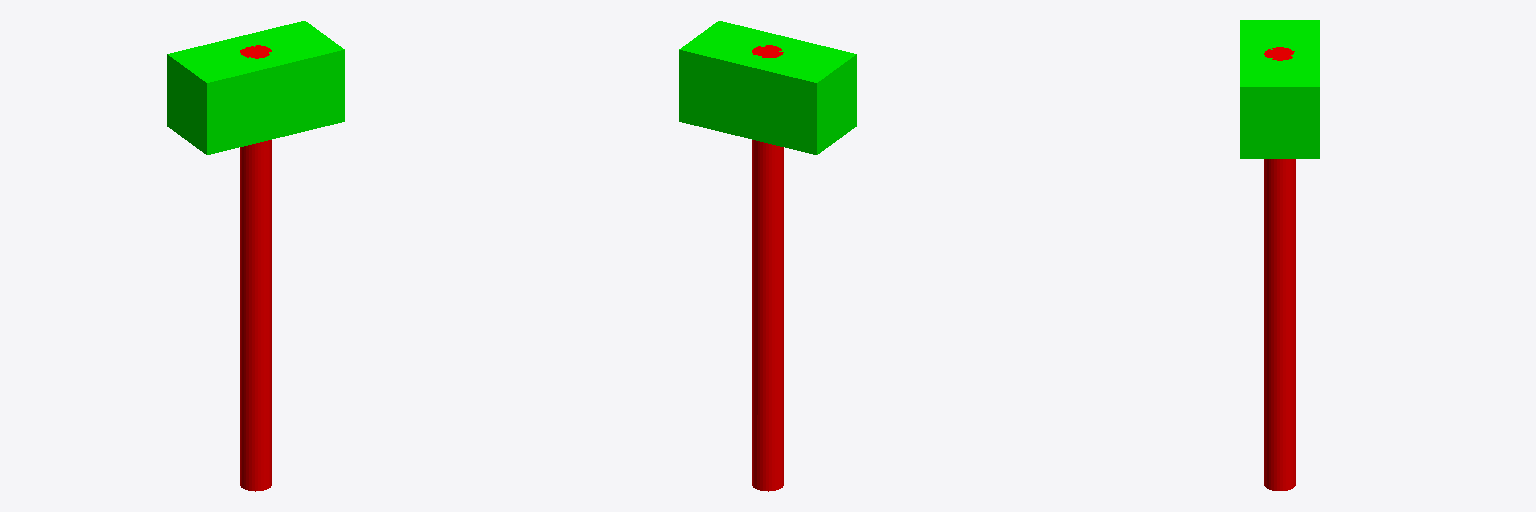
robot.urdf — GEN3_URDF_V12:
<robot name="GEN3_URDF_V12">
  <link name="base_link">
    <inertial>
      <origin xyz="-0.000648 -0.000166 0.084487" rpy="0 0 0" />
      <mass value="1.697" />
      <inertia ixx="0.004622" ixy="9E-06" ixz="6E-05" iyy="0.004495" iyz="9E-06" izz="0.002079" />
    </inertial>
    <visual>
      <origin xyz="0 0 0" rpy="0 0 0" />
      <geometry>
        <mesh filename="package://project/script/environment_description/gen3/7dof/meshes/base_link.obj" />
      </geometry>
      <material name="">
        <color rgba="0.75294 0.75294 0.75294 1" />
      </material>
    </visual>
    <collision>
      <origin xyz="0 0 0" rpy="0 0 0" />
      <geometry>
        <mesh filename="package://project/script/environment_description/gen3/7dof/meshes/base_link.obj" />
      </geometry>
    </collision>
  </link>
  <link name="Shoulder_Link">
    <inertial>
      <origin xyz="-2.3E-05 -0.010364 -0.07336" rpy="0 0 0" />
      <mass value="1.3773" />
      <inertia ixx="0.00457" ixy="1E-06" ixz="2E-06" iyy="0.004831" iyz="0.000448" izz="0.001409" />
    </inertial>
    <visual>
      <origin xyz="0 0 0" rpy="0 0 0" />
      <geometry>
        <mesh filename="package://project/script/environment_description/gen3/7dof/meshes/shoulder_link.obj" />
      </geometry>
      <material name="">
        <color rgba="0.75294 0.75294 0.75294 1" />
      </material>
    </visual>
    <collision>
      <origin xyz="0 0 0" rpy="0 0 0" />
      <geometry>
        <mesh filename="package://project/script/environment_description/gen3/7dof/meshes/shoulder_link.obj" />
      </geometry>
    </collision>
  </link>
  <joint name="Actuator1" type="continuous">
    <origin xyz="0 0 0.15643" rpy="3.1416 2.7629E-18 -4.9305E-36" />
    <parent link="base_link" />
    <child link="Shoulder_Link" />
    <axis xyz="0 0 1" />
    <limit lower="-1.57" upper="1.57" effort="39" velocity="8.727" />
  </joint>
  <link name="HalfArm1_Link">
    <inertial>
      <origin xyz="-4.4E-05 -0.09958 -0.013278" rpy="0 0 0" />
      <mass value="1.1636" />
      <inertia ixx="0.011088" ixy="5E-06" ixz="0" iyy="0.001072" iyz="-0.000691" izz="0.011255" />
    </inertial>
    <visual>
      <origin xyz="0 0 0" rpy="0 0 0" />
      <geometry>
        <mesh filename="package://project/script/environment_description/gen3/7dof/meshes/half_arm_1_link.obj" />
      </geometry>
      <material name="">
        <color rgba="0.75294 0.75294 0.75294 1" />
      </material>
    </visual>
    <collision>
      <origin xyz="0 0 0" rpy="0 0 0" />
      <geometry>
        <mesh filename="package://project/script/environment_description/gen3/7dof/meshes/half_arm_1_link.obj" />
      </geometry>
    </collision>
  </link>
  <joint name="Actuator2" type="revolute">
    <origin xyz="0 0.005375 -0.12838" rpy="1.5708 2.1343E-17 -1.1102E-16" />
    <parent link="Shoulder_Link" />
    <child link="HalfArm1_Link" />
    <axis xyz="0 0 1" />
    <limit lower="-2.41" upper="2.41" effort="39" velocity="8.727" />
  </joint>
  <link name="HalfArm2_Link">
    <inertial>
      <origin xyz="-4.4E-05 -0.006641 -0.117892" rpy="0 0 0" />
      <mass value="1.1636" />
      <inertia ixx="0.010932" ixy="0" ixz="-7E-06" iyy="0.011127" iyz="0.000606" izz="0.001043" />
    </inertial>
    <visual>
      <origin xyz="0 0 0" rpy="0 0 0" />
      <geometry>
        <mesh filename="package://project/script/environment_description/gen3/7dof/meshes/half_arm_2_link.obj" />
      </geometry>
      <material name="">
        <color rgba="0.75294 0.75294 0.75294 1" />
      </material>
    </visual>
    <collision>
      <origin xyz="0 0 0" rpy="0 0 0" />
      <geometry>
        <mesh filename="package://project/script/environment_description/gen3/7dof/meshes/half_arm_2_link.obj" />
      </geometry>
    </collision>
  </link>
  <joint name="Actuator3" type="continuous">
    <origin xyz="0 -0.21038 -0.006375" rpy="-1.5708 1.2326E-32 -2.9122E-16" />
    <parent link="HalfArm1_Link" />
    <child link="HalfArm2_Link" />
    <axis xyz="0 0 1" />
    <limit lower="-1.57" upper="1.57" effort="39" velocity="8.727" />
  </joint>
  <link name="ForeArm_Link">
    <inertial>
      <origin xyz="-1.8E-05 -0.075478 -0.015006" rpy="0 0 0" />
      <mass value="0.9302" />
      <inertia ixx="0.008147" ixy="-1E-06" ixz="0" iyy="0.000631" iyz="-0.0005" izz="0.008316" />
    </inertial>
    <visual>
      <origin xyz="0 0 0" rpy="0 0 0" />
      <geometry>
        <mesh filename="package://project/script/environment_description/gen3/7dof/meshes/forearm_link.obj" />
      </geometry>
      <material name="">
        <color rgba="0.75294 0.75294 0.75294 1" />
      </material>
    </visual>
    <collision>
      <origin xyz="0 0 0" rpy="0 0 0" />
      <geometry>
        <mesh filename="package://project/script/environment_description/gen3/7dof/meshes/forearm_link.obj" />
      </geometry>
    </collision>
  </link>
  <joint name="Actuator4" type="revolute">
    <origin xyz="0 0.006375 -0.21038" rpy="1.5708 -6.6954E-17 -1.6653E-16" />
    <parent link="HalfArm2_Link" />
    <child link="ForeArm_Link" />
    <axis xyz="0 0 1" />
    <limit lower="-2.66" upper="2.66" effort="39" velocity="8.727" />
  </joint>
  <link name="SphericalWrist1_Link">
    <inertial>
      <origin xyz="1E-06 -0.009432 -0.063883" rpy="0 0 0" />
      <mass value="0.6781" />
      <inertia ixx="0.001596" ixy="0" ixz="0" iyy="0.001607" iyz="0.000256" izz="0.000399" />
    </inertial>
    <visual>
      <origin xyz="0 0 0" rpy="0 0 0" />
      <geometry>
        <mesh filename="package://project/script/environment_description/gen3/7dof/meshes/spherical_wrist_1_link.obj" />
      </geometry>
      <material name="">
        <color rgba="0.75294 0.75294 0.75294 1" />
      </material>
    </visual>
    <collision>
      <origin xyz="0 0 0" rpy="0 0 0" />
      <geometry>
        <mesh filename="package://project/script/environment_description/gen3/7dof/meshes/spherical_wrist_1_link.obj" />
      </geometry>
    </collision>
  </link>
  <joint name="Actuator5" type="continuous">
    <origin xyz="0 -0.20843 -0.006375" rpy="-1.5708 2.2204E-16 -6.373E-17" />
    <parent link="ForeArm_Link" />
    <child link="SphericalWrist1_Link" />
    <axis xyz="0 0 1" />
    <limit lower="-1.57" upper="1.57" effort="9" velocity="8.727" />
  </joint>
  <link name="SphericalWrist2_Link">
    <inertial>
      <origin xyz="1E-06 -0.045483 -0.00965" rpy="0 0 0" />
      <mass value="0.6781" />
      <inertia ixx="0.001641" ixy="0" ixz="0" iyy="0.00041" iyz="-0.000278" izz="0.001641" />
    </inertial>
    <visual>
      <origin xyz="0 0 0" rpy="0 0 0" />
      <geometry>
        <mesh filename="package://project/script/environment_description/gen3/7dof/meshes/spherical_wrist_2_link.obj" />
      </geometry>
      <material name="">
        <color rgba="0.75294 0.75294 0.75294 1" />
      </material>
    </visual>
    <collision>
      <origin xyz="0 0 0" rpy="0 0 0" />
      <geometry>
        <mesh filename="package://project/script/environment_description/gen3/7dof/meshes/spherical_wrist_2_link.obj" />
      </geometry>
    </collision>
  </link>
  <joint name="Actuator6" type="revolute">
    <origin xyz="0 0.00017505 -0.10593" rpy="1.5708 9.2076E-28 -8.2157E-15" />
    <parent link="SphericalWrist1_Link" />
    <child link="SphericalWrist2_Link" />
    <axis xyz="0 0 1" />
    <limit lower="-2.23" upper="2.23" effort="9" velocity="8.727" />
  </joint>
  <link name="Bracelet_Link">
    <inertial>
      <origin xyz="-0.000281 -0.011402 -0.029798" rpy="0 0 0" />
      <mass value="0.5006" />
      <inertia ixx="0.000587" ixy="3E-06" ixz="3E-06" iyy="0.000369" iyz="0.000118" izz="0.000609" />
    </inertial>
    <visual>
      <origin xyz="0 0 0" rpy="0 0 0" />
      <geometry>
        <mesh filename="package://project/script/environment_description/gen3/7dof/meshes/bracelet_with_vision_link.obj" />
      </geometry>
      <material name="">
        <color rgba="0.75294 0.75294 0.75294 1" />
      </material>
    </visual>
    <collision>
      <origin xyz="0 0 0" rpy="0 0 0" />
      <geometry>
        <mesh filename="package://project/script/environment_description/gen3/7dof/meshes/bracelet_with_vision_link.obj" />
      </geometry>
    </collision>
  </link>
  <joint name="Actuator7" type="continuous">
    <origin xyz="0 -0.10593 -0.00017505" rpy="-1.5708 -5.5511E-17 9.6396E-17" />
    <parent link="SphericalWrist2_Link" />
    <child link="Bracelet_Link" />
    <axis xyz="0 0 1" />
    <limit lower="-1.57" upper="1.57" effort="9" velocity="8.727" />
  </joint>

  <joint name="EndEffector" type="fixed">
    <origin xyz="0 0 -0.0615250000000001" rpy="3.14159265358979 1.09937075168372E-32 0" />
    <parent link="Bracelet_Link" />
    <child link="cart" />
    <axis xyz="0 0 0" />
  </joint>

  <link name="cart">
  <inertial>
    <origin xyz="0 0 0.025" rpy="0 0 0"/>
    <mass value="0.5"/>
    <inertia ixx="0.001" ixy="0" ixz="0" iyy="0.001" iyz="0" izz="0.001"/>
  </inertial>
  <visual>
    <origin xyz="0 0 0.025" rpy="0 0 0"/>
    <geometry>
      <box size="0.1 0.05 0.05"/> <!-- Scaled down size -->
    </geometry>
    <material name="green">
      <color rgba="0 1 0 1"/>
    </material>
  </visual>
  </link>

  <link name="pole">
    <inertial>
      <origin xyz="0 0 -0.15" rpy="0 0 0"/>
      <mass value="0.3"/>
      <inertia ixx="0.0001" ixy="0" ixz="0" iyy="0.0001" iyz="0" izz="0.0001"/>
    </inertial>
    <visual>
      <origin xyz="0 0 -0.15" rpy="0 0 0"/>
      <geometry>
        <cylinder length="0.3" radius="0.01"/>
      </geometry>
      <material name="red">
        <color rgba="1 0 0 1"/>
      </material>
    </visual>
  </link>

  <joint name="pole_joint" type="continuous">
    <parent link="cart"/>
    <child link="pole"/>
    <origin xyz="0 0 0.05"/>
    <axis xyz="0 1 0"/>
  </joint>

</robot>

--- What the picture shows (computed from the rendered views, not written in the file) ---
Views: 3 orthographic renders of the robot side by side, from view 1: azimuth 30°, elevation 25°; view 2: azimuth 150°, elevation 25°; view 3: azimuth 270°, elevation 25°.
Robot: GEN3_URDF_V12 — 10 links, 9 joints (3 revolute, 5 continuous, 1 fixed); root link base_link; default pose: every joint at zero.
Visible links, largest first — view 1: cart, pole; view 2: cart, pole; view 3: pole, cart.
Boxes of the visible links, bbox=[...] form: cart: bbox=[167, 21, 344, 154]; pole: bbox=[240, 45, 271, 491]; cart: bbox=[679, 21, 856, 154]; pole: bbox=[752, 45, 783, 491]; pole: bbox=[1264, 47, 1295, 490]; cart: bbox=[1240, 20, 1319, 158].
Bounding box of the posed robot: 0.1 × 0.05 × 0.3 m (x, y, z).
0 mesh visuals loaded from 8 distinct referenced files (none loaded); not drawn: 8 (reference not matched to a file when rendering).